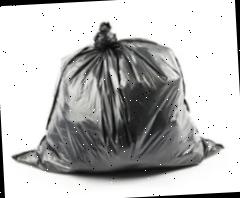plastic: (5, 14, 226, 178)
